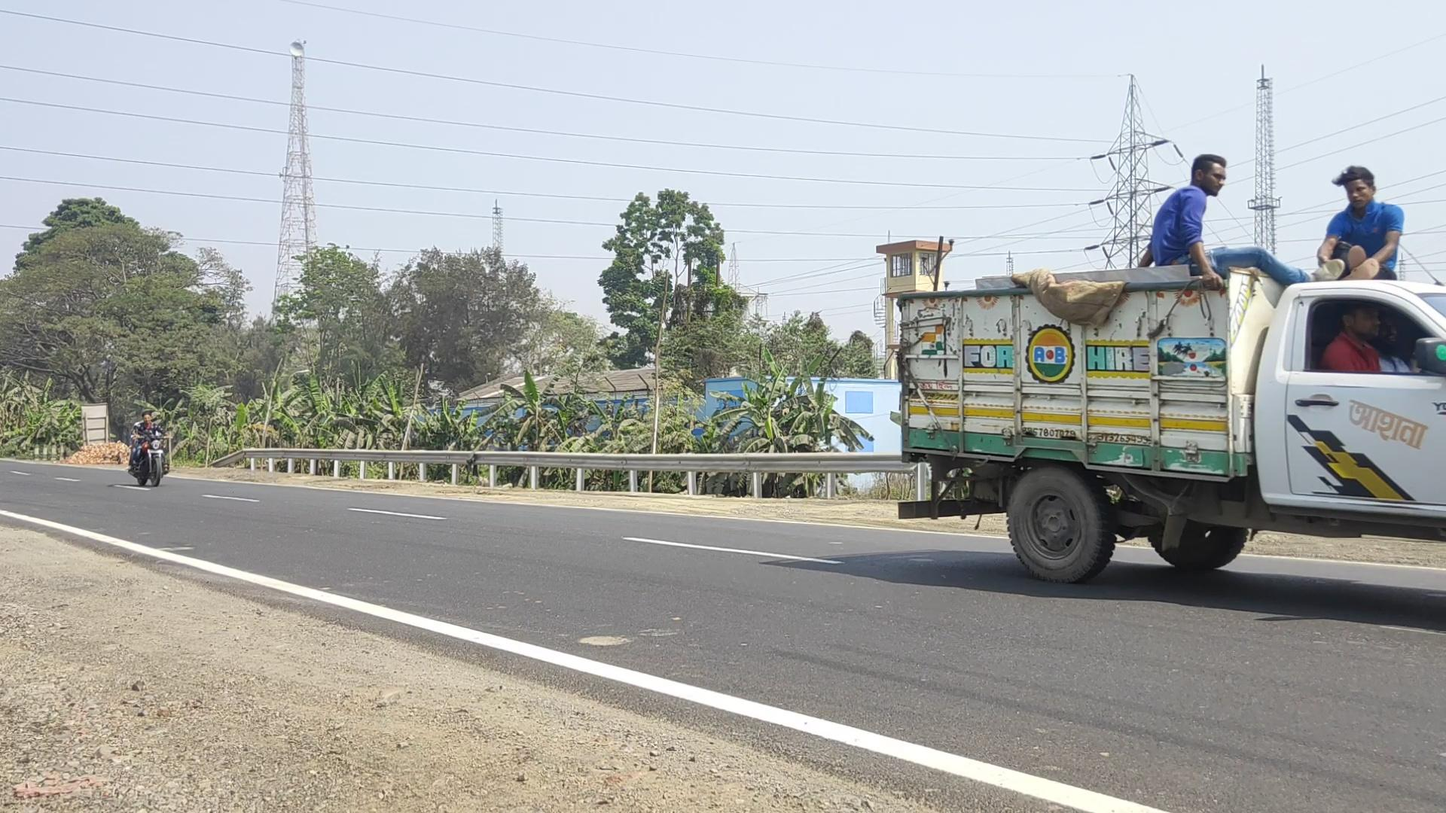bike: (127, 411, 173, 486)
van: (897, 154, 1446, 593)
